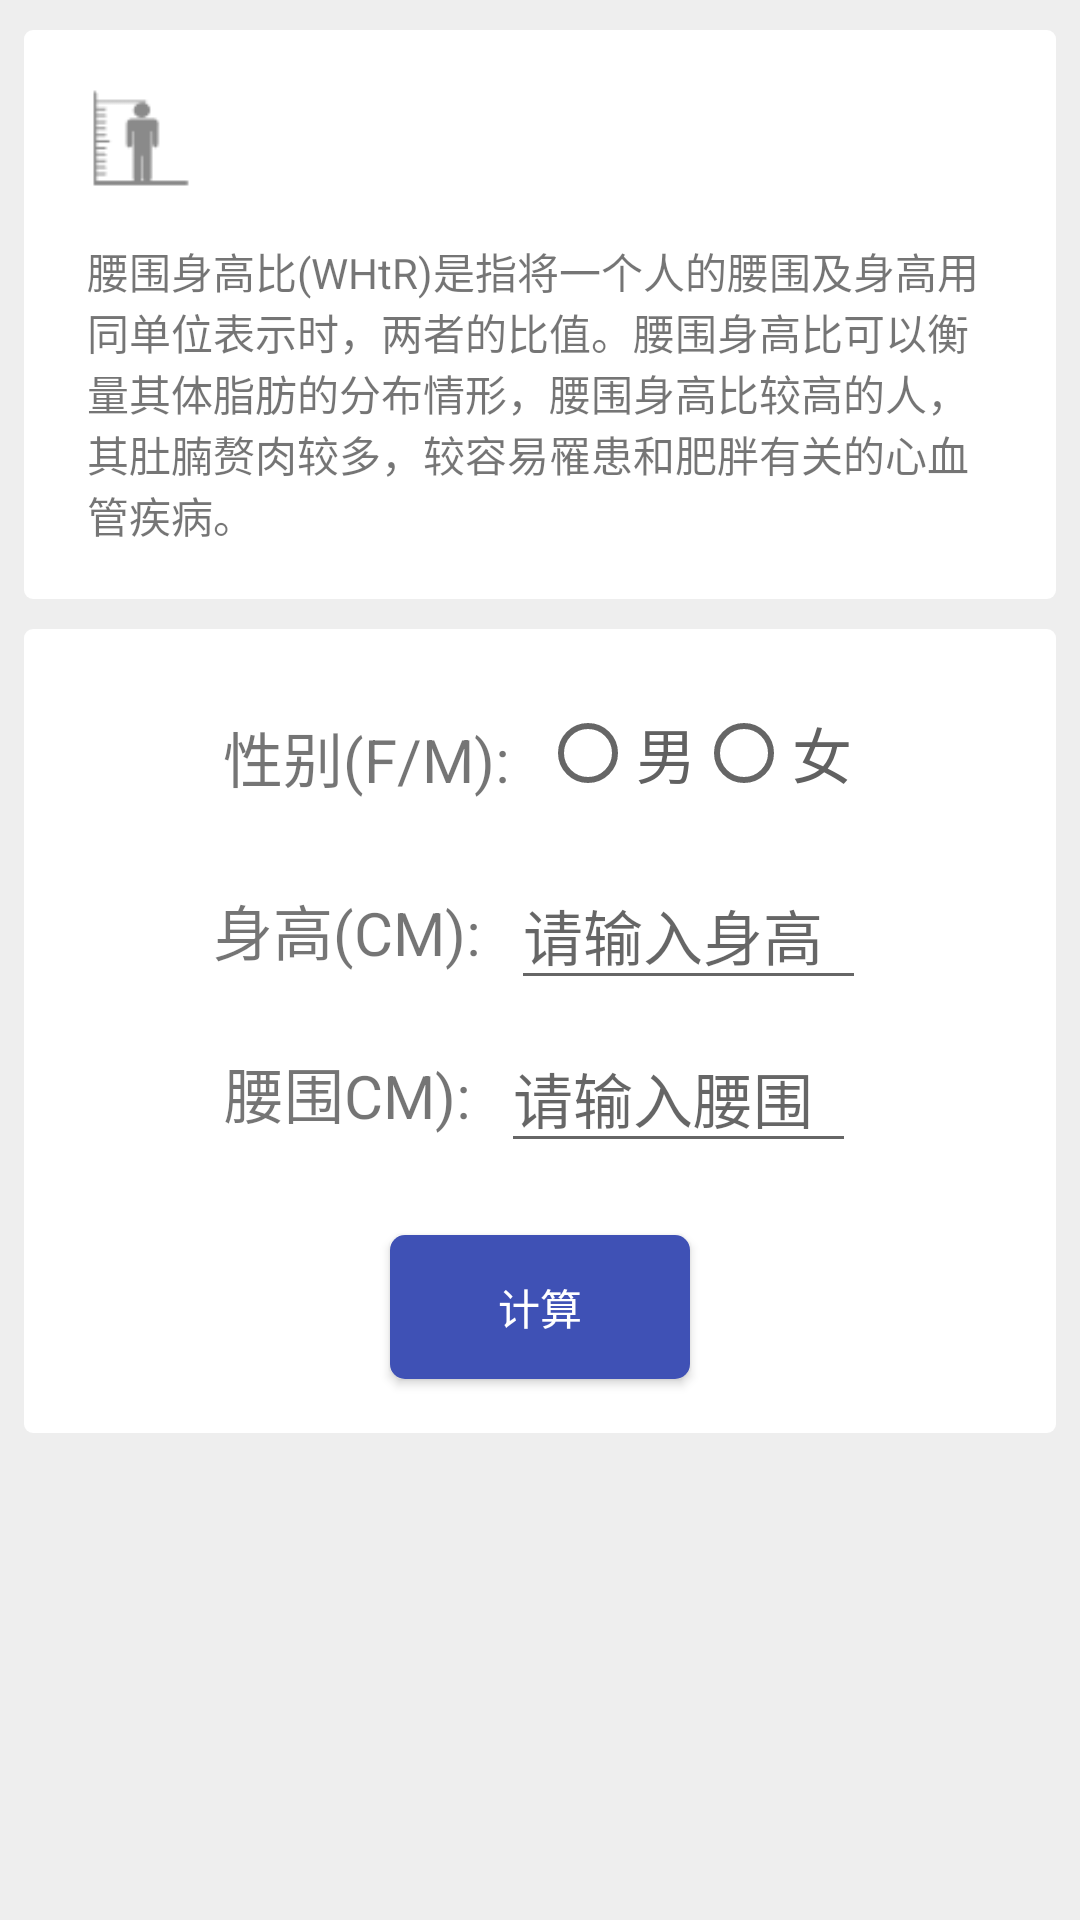

Where to tap for icons on this 1080px×1920px app screen, as (x,y):
shenggao: (141,138)
